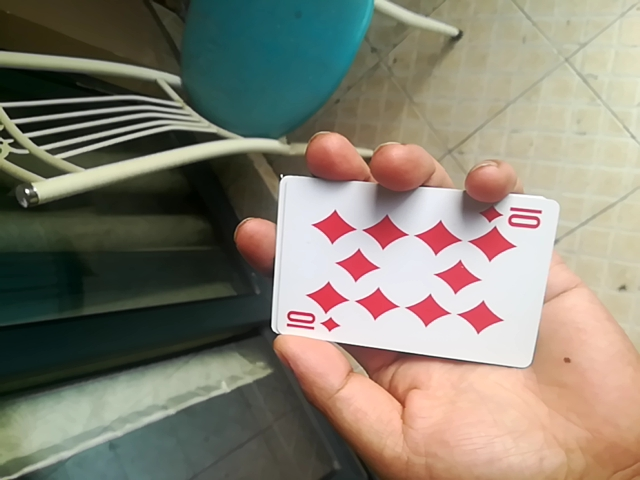fk 10: (271, 174, 554, 368)
